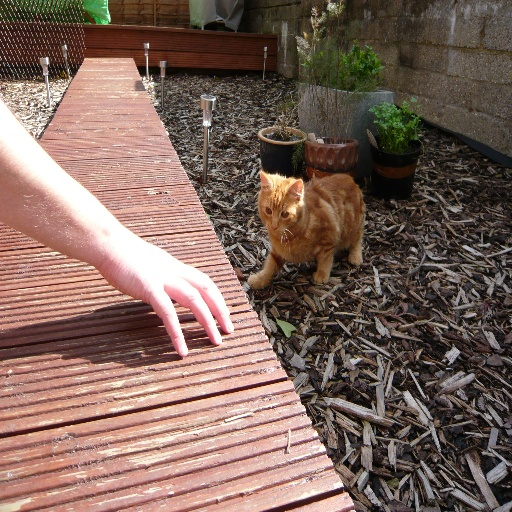hand: (108, 227, 235, 360)
